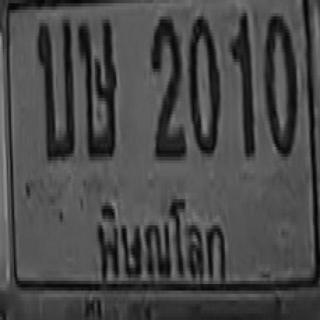A26: (36, 15, 74, 158)
A39: (77, 15, 116, 155)
N00: (264, 10, 297, 157), (188, 13, 219, 154)
N01: (230, 10, 254, 157)
N02: (150, 13, 183, 157)
P46: (90, 189, 230, 292)
